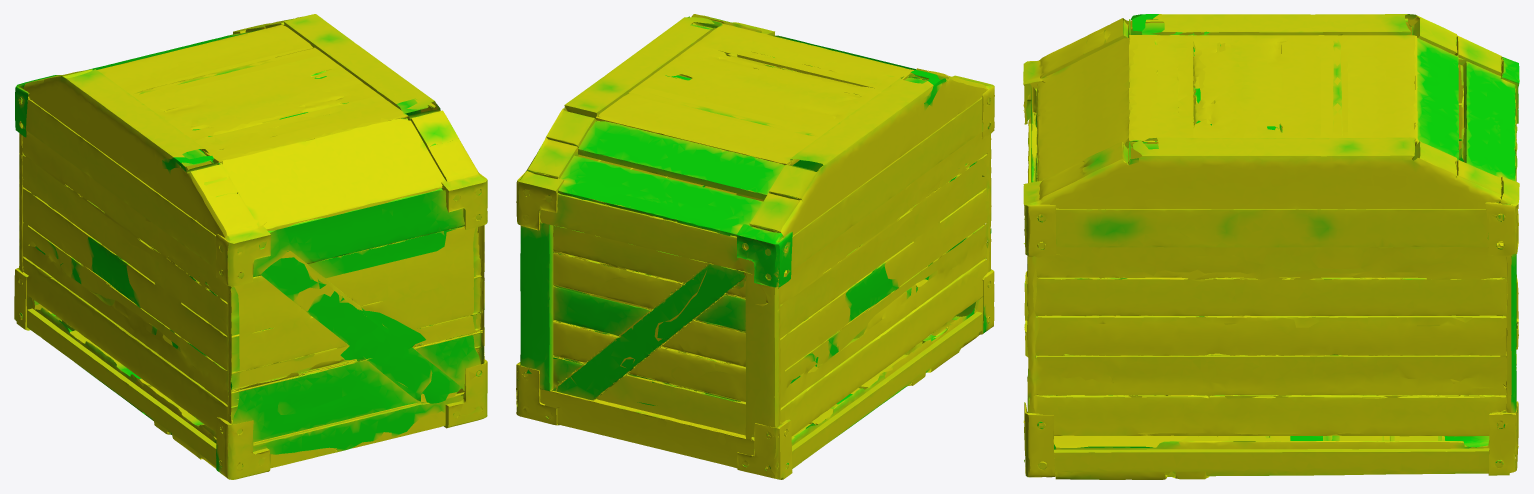
The model's file is lootcrate_outline.fbx.
3 renders of one model, left to right at view 1: azimuth 30°, elevation 25°; view 2: azimuth 150°, elevation 25°; view 3: azimuth 270°, elevation 25°, orthographic. The views are drawn at different scales.
Parts seen in each view (by area): view 1: lootcrate_outline; view 2: lootcrate_outline; view 3: lootcrate_outline.
Part boxes in pixels (x1,y1,x2,y2): lootcrate_outline: (14,14,487,479); lootcrate_outline: (516,14,994,479); lootcrate_outline: (1023,14,1519,479).
Size of the model in its own units: 174 by 180 by 249.
